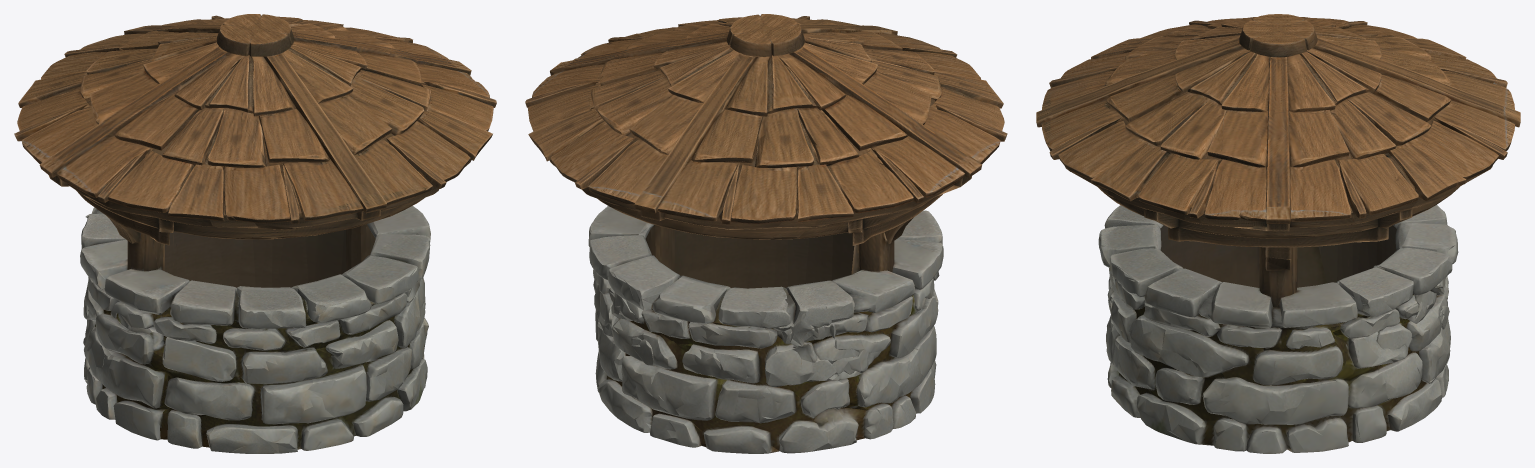
The model's file is stone_well.glb.
3 renders of one model, left to right at view 1: azimuth 30°, elevation 25°; view 2: azimuth 150°, elevation 25°; view 3: azimuth 270°, elevation 25°, orthographic.
Size of the model in its own units: 1.9 by 1.53 by 1.9.
1 material, 1 textured.
